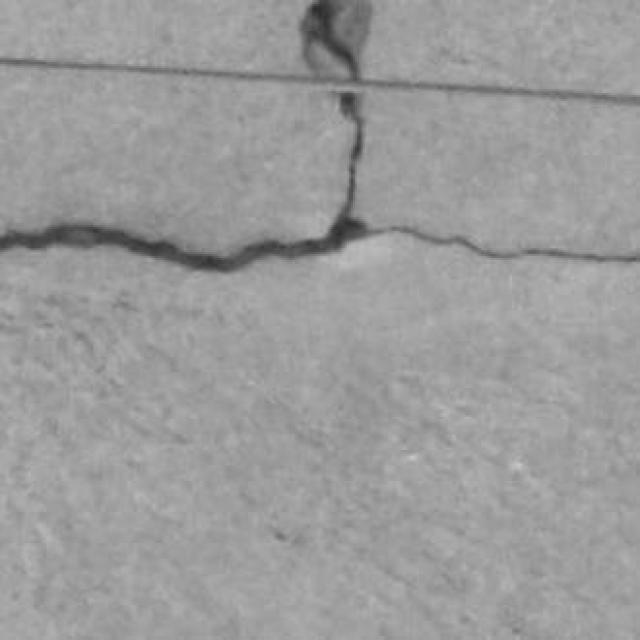crack: (0, 0, 639, 273), (0, 92, 368, 273), (367, 227, 639, 263)
